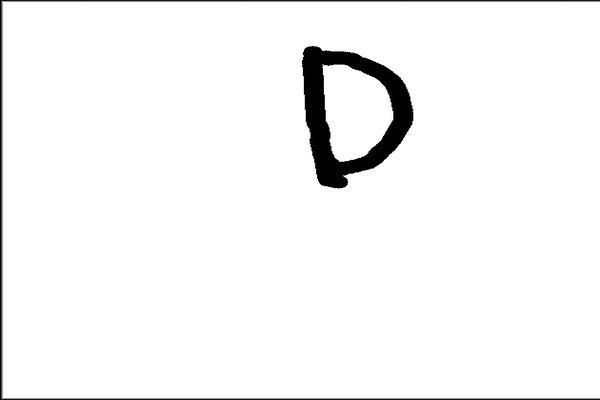D: (297, 37, 420, 191)
